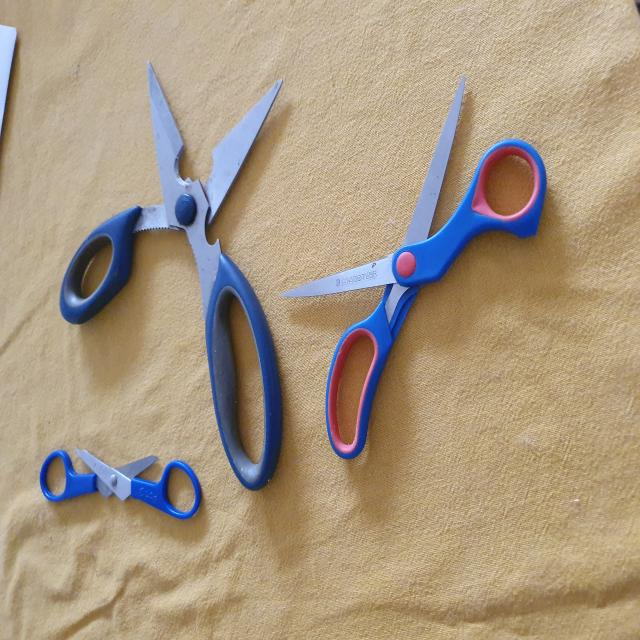scissors: (284, 79, 551, 462), (57, 58, 288, 493), (40, 443, 207, 523)
